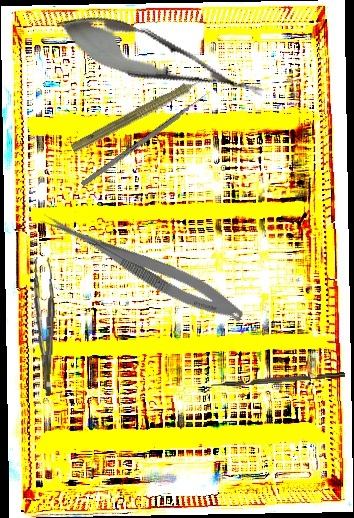Chopper: (204, 372, 346, 394)
Handpiece: (68, 68, 218, 159)
Micro Scissor: (34, 207, 250, 329), (48, 0, 272, 117)
Pusher: (80, 88, 214, 188)
Tissue Forceps: (28, 256, 58, 397)
